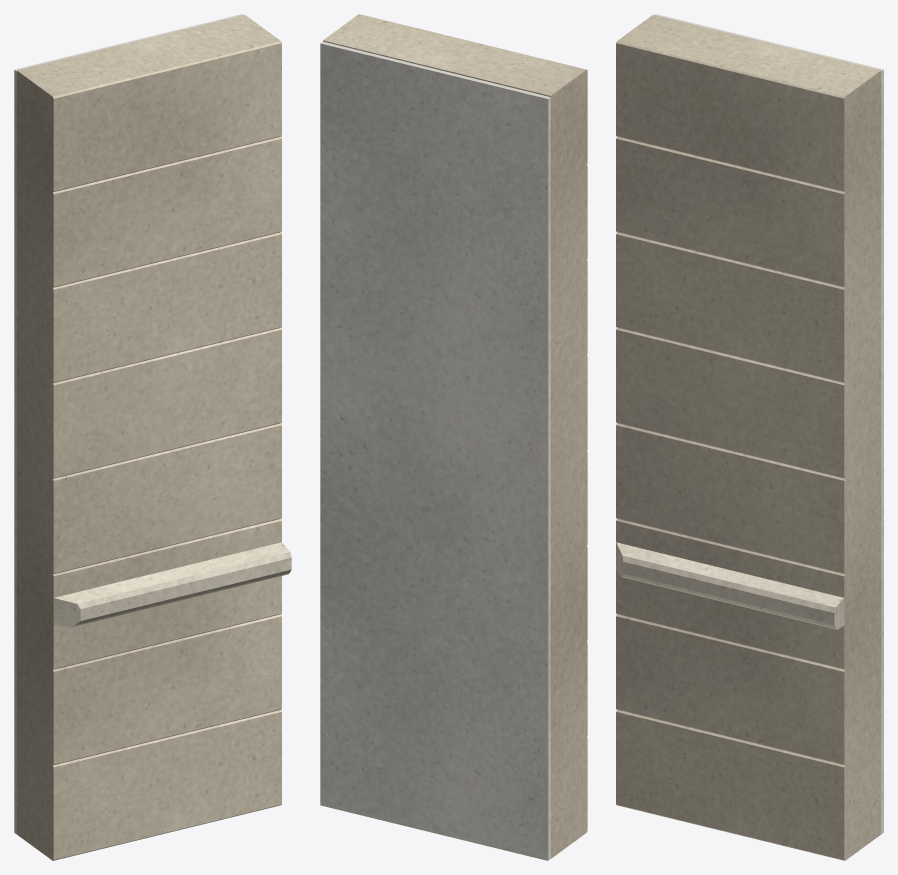
File: pv_side_u2_l.glb
3 views of the same model, side by side, from view 1: azimuth 30°, elevation 25°; view 2: azimuth 150°, elevation 25°; view 3: azimuth 330°, elevation 25° (orthographic).
Parts seen in each view (by area): view 1: pv_side_u2_l_ashlar, pv_side_u2_l_trim, pv_side_u2_l_plaster; view 2: pv_side_u2_l_plaster, pv_side_u2_l_ashlar; view 3: pv_side_u2_l_ashlar, pv_side_u2_l_trim, pv_side_u2_l_plaster.
Part boxes in pixels (left/top/right/bottom): pv_side_u2_l_ashlar: left=17, top=15, right=281, bottom=860; pv_side_u2_l_trim: left=53, top=542, right=291, bottom=627; pv_side_u2_l_plaster: left=14, top=14, right=243, bottom=834; pv_side_u2_l_plaster: left=320, top=41, right=550, bottom=860; pv_side_u2_l_ashlar: left=323, top=14, right=587, bottom=858; pv_side_u2_l_ashlar: left=616, top=15, right=881, bottom=860; pv_side_u2_l_trim: left=616, top=542, right=844, bottom=629; pv_side_u2_l_plaster: left=655, top=14, right=883, bottom=833.
Size of the model in its own units: 1 by 3.2 by 0.375.
Materials: 3 (3 with a texture image).
